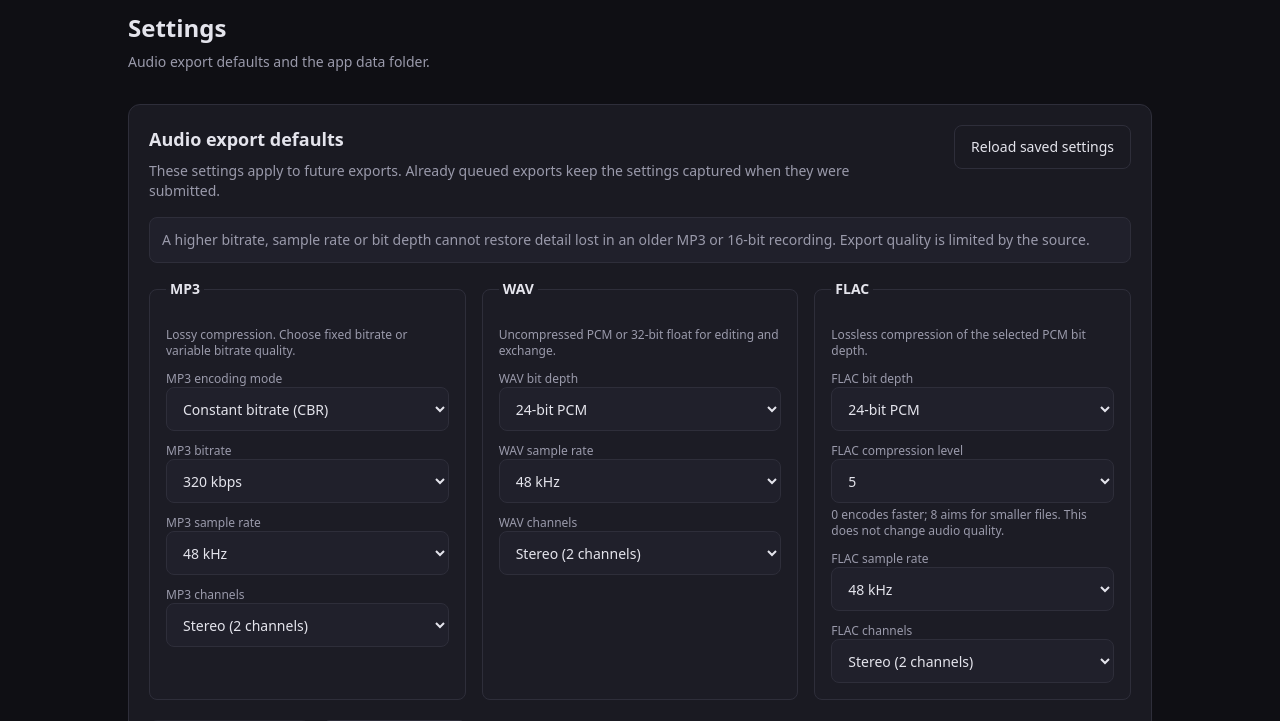
Test case: loads explicit per-format controls and explains future exports and source limits
expect the heading "Settings" is shown: met, box [128,11,226,44]
expect the dropdown labelled "MP3 bitrate" shows "320 kbps": met, box [166,459,449,503]
Select "Variable bitrate (VBR)" in the dropdown labelled "MP3 encoding mode" at point(307, 409), box [166,387,449,431]
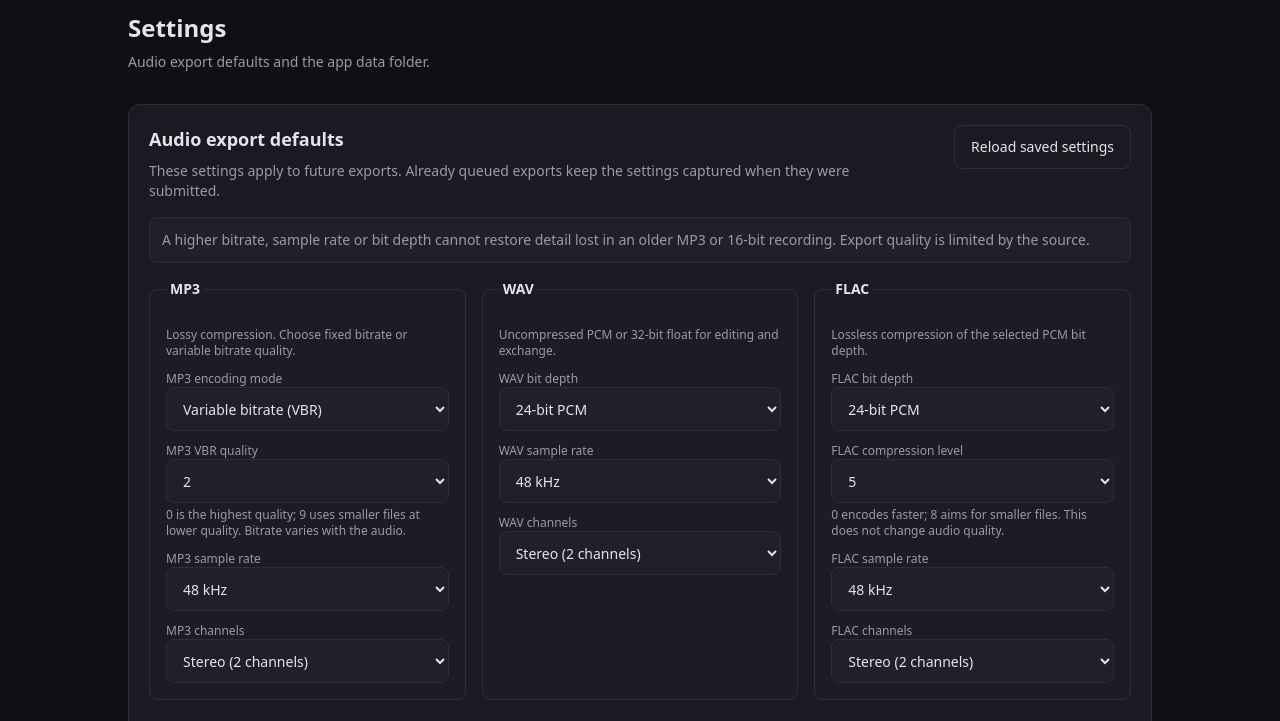
expect the dropdown named "MP3 VBR quality" shows "2": met, box [166,459,449,503]
